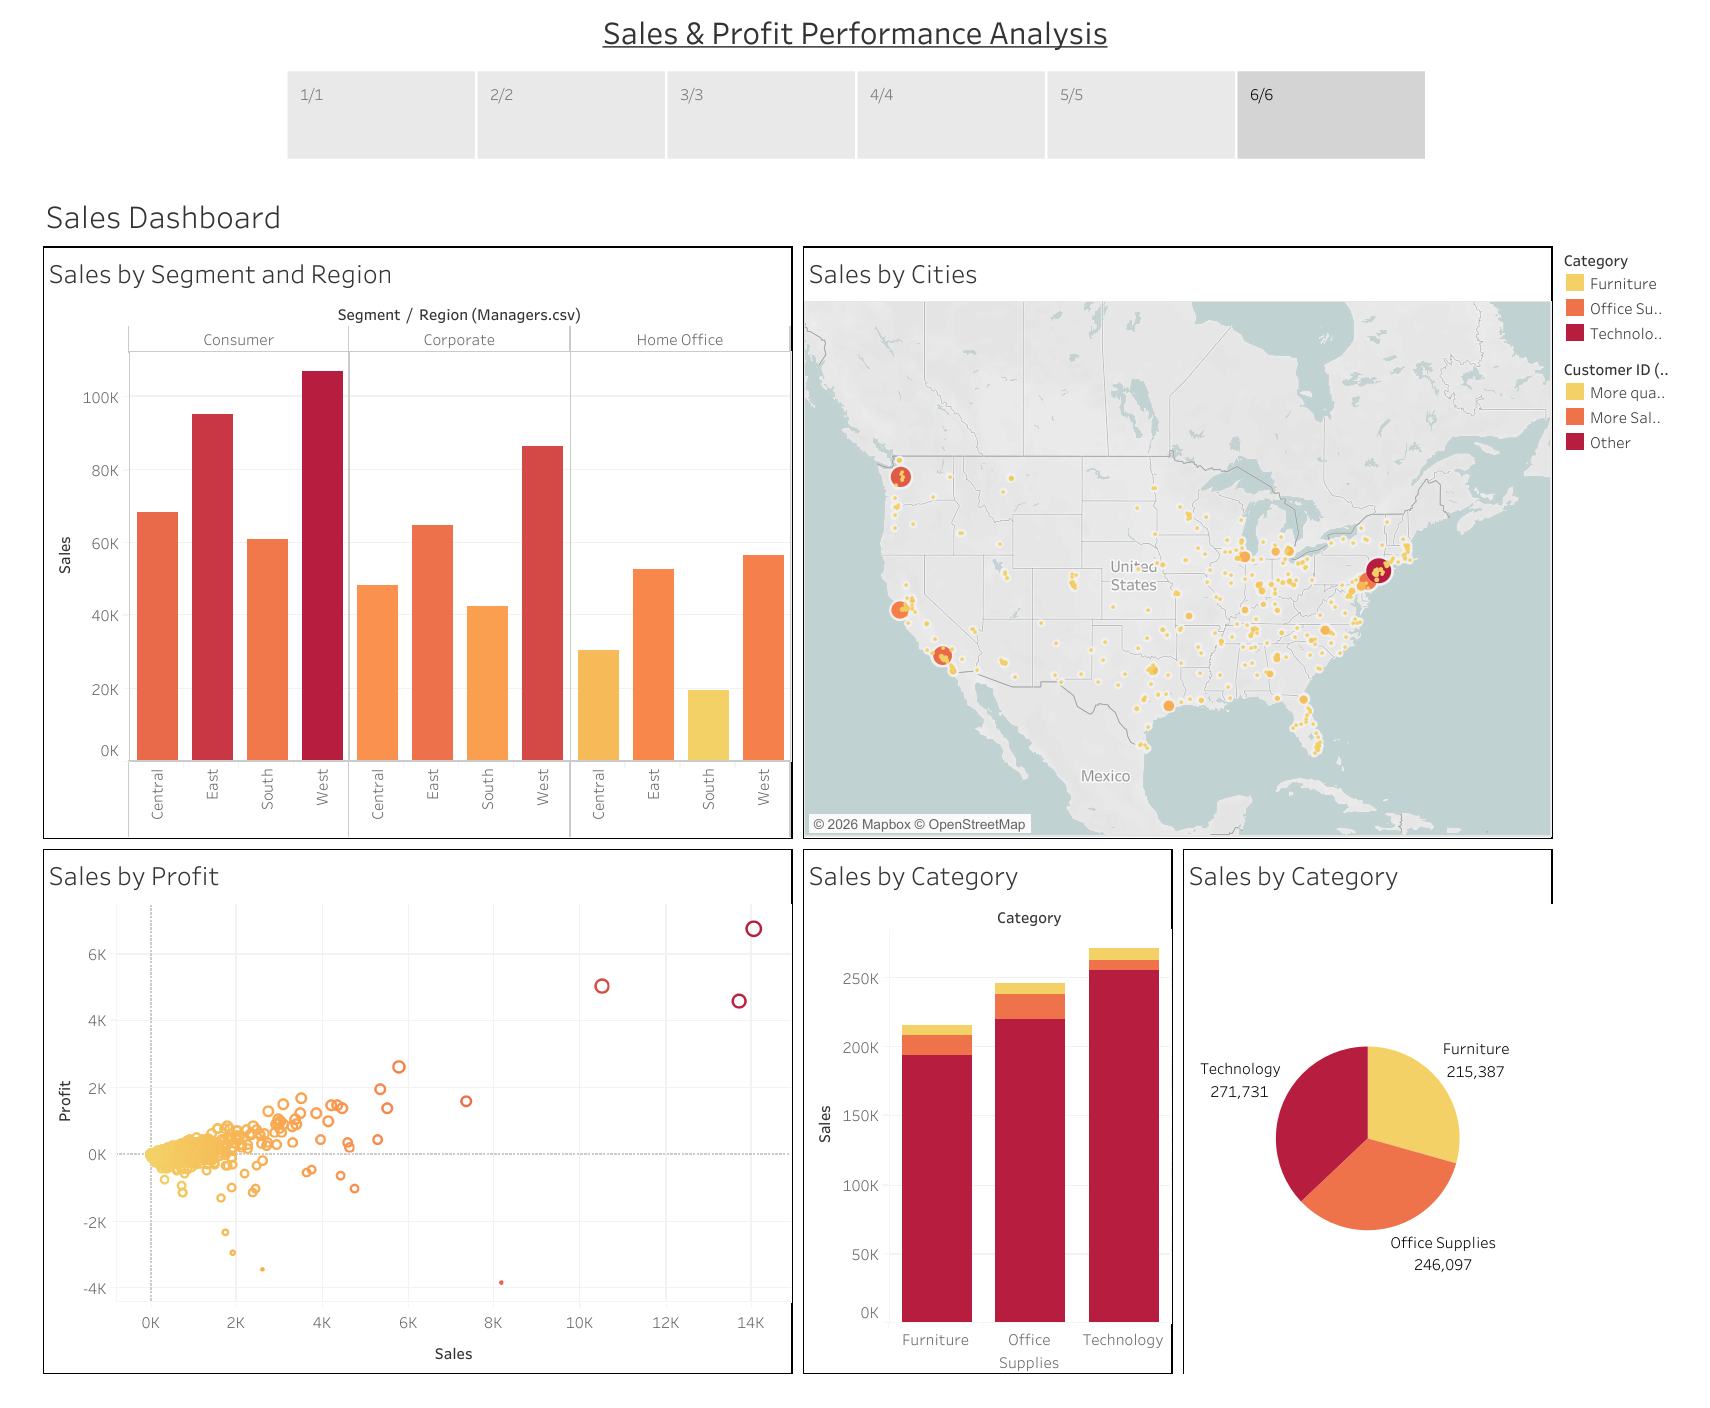

The dashboard page shown, as its layout file describes it:
{"tool":"tableau","page":{"name":"Sales Dashboard","canvas":[1324,968],"ordinal":0},"visuals":[{"type":"title","box":[8,8,1308,50]},{"type":"worksheet","title":"Sales by Segment and Region","mark":"Automatic","rows":["Sales"],"cols":["Segment","Region (Managers.csv)"],"box":[8,58,608,477.4]},{"type":"worksheet","title":"Sales by cities","mark":"Automatic","box":[616,58,608,477.4]},{"type":"legend","title":"Sales By Category","param":"[Sample - Superstore].[none:Category:nk]","box":[1224,58,92,93]},{"type":"legend","title":"Sales by Category","param":"[Sample - Superstore].[Customer ID (group)]","box":[1224,151,92,93]},{"type":"worksheet","title":"Scatter Plot","mark":"Shape","rows":["Profit"],"cols":["Sales"],"box":[8,535.4,608,424.6]},{"type":"worksheet","title":"Sales by Category","mark":"Automatic","rows":["Sales"],"cols":["Category"],"box":[616,535.4,304,424.6]},{"type":"worksheet","title":"Sales By Category","mark":"Pie","box":[920,535.4,304,424.6]}]}

Visuals, with their boxes in screenshot pixels (x1, y1, x2, y2):
title: [45,183,1652,245]
"Sales by Segment and Region" worksheet: [45,245,792,831]
"Sales by cities" worksheet: [792,245,1539,831]
"Sales By Category" legend: [1539,245,1652,359]
"Sales by Category" legend: [1539,359,1652,473]
"Scatter Plot" worksheet (Shape marks): [45,831,792,1353]
"Sales by Category" worksheet: [792,831,1166,1353]
"Sales By Category" worksheet (Pie marks): [1166,831,1539,1353]
